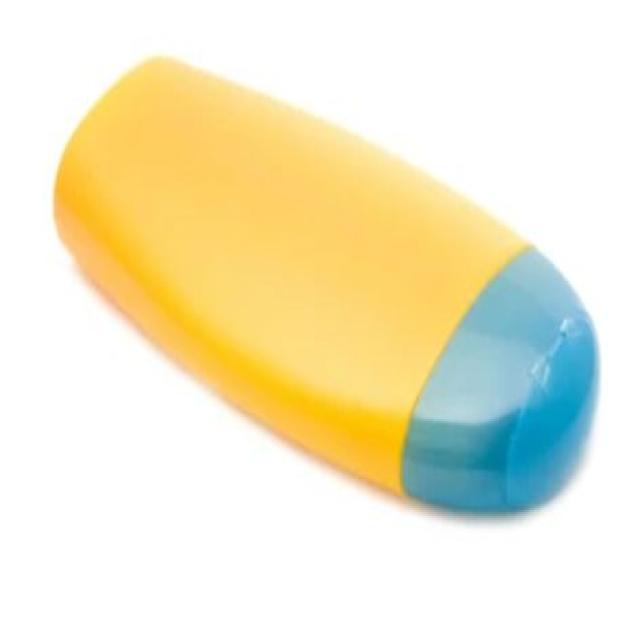general: (52, 50, 600, 516)
